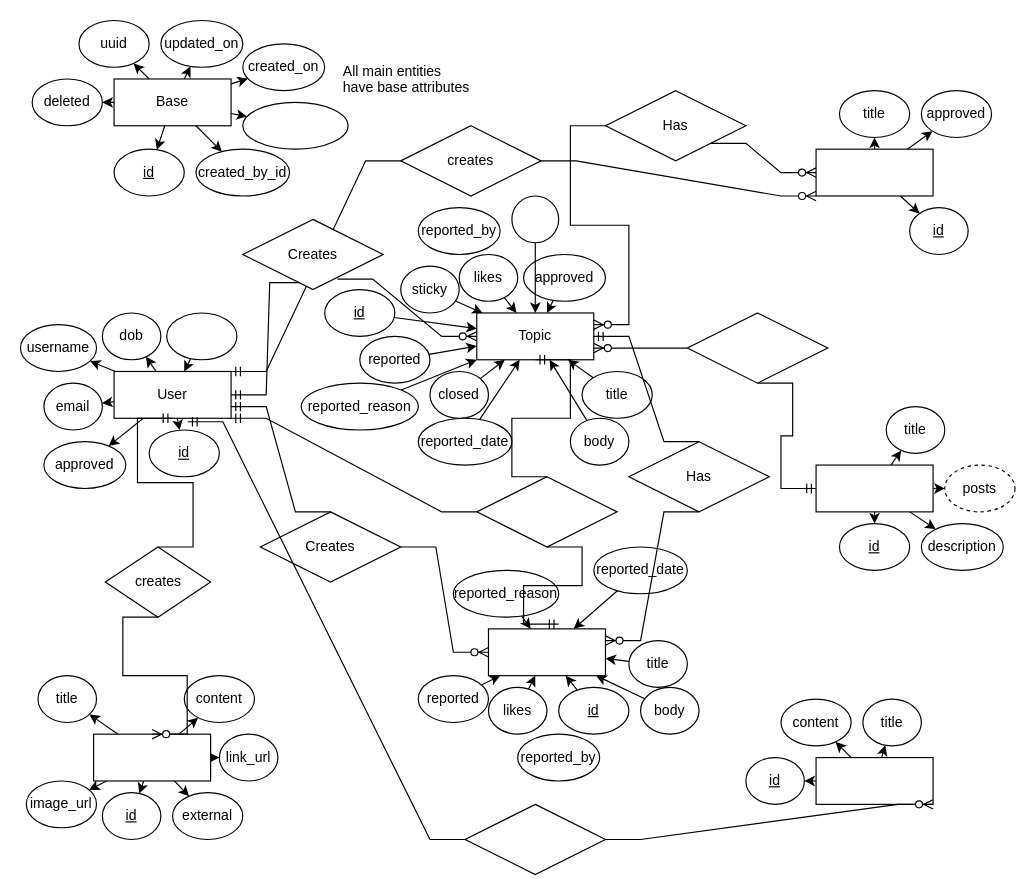
Some shapes in this 1035 by 895 pixel diagram are drawn without their labels. Each missing label, with the centre of its shape:
banner (o): pixel 201 336
Categorized By: pixel 757 347
ForumCategory: pixel 874 488
manages: pixel 534 839
NewsCard: pixel 151 757
Reply: pixel 546 652
Reports: pixel 546 511
SiteContent: pixel 874 780
Tag: pixel 874 172
updated_by_id: pixel 295 125
views: pixel 535 219
